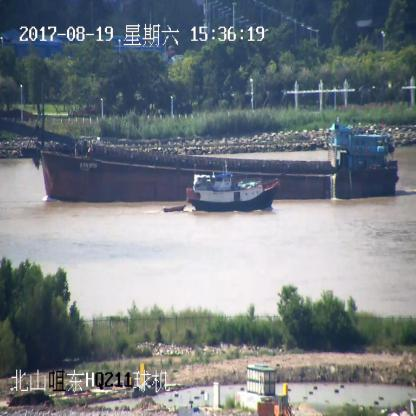Bulk Carrier: (0, 120, 398, 199)
